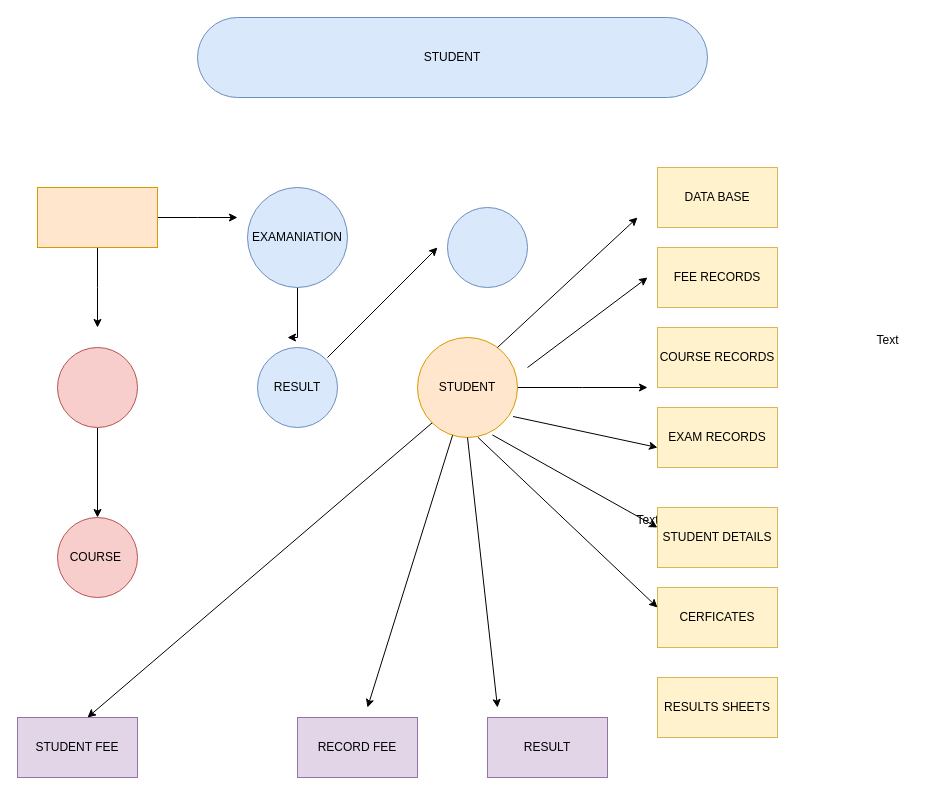
The diagram is 930 pixels wide and 795 high, and some of its shapes have lost their labels. Each missing label, with the centre of its shape:
"FEE PAYMENT" goes at point (97, 387).
"PROCESSES" goes at point (487, 247).
"REGISTRACTION" goes at point (97, 217).
